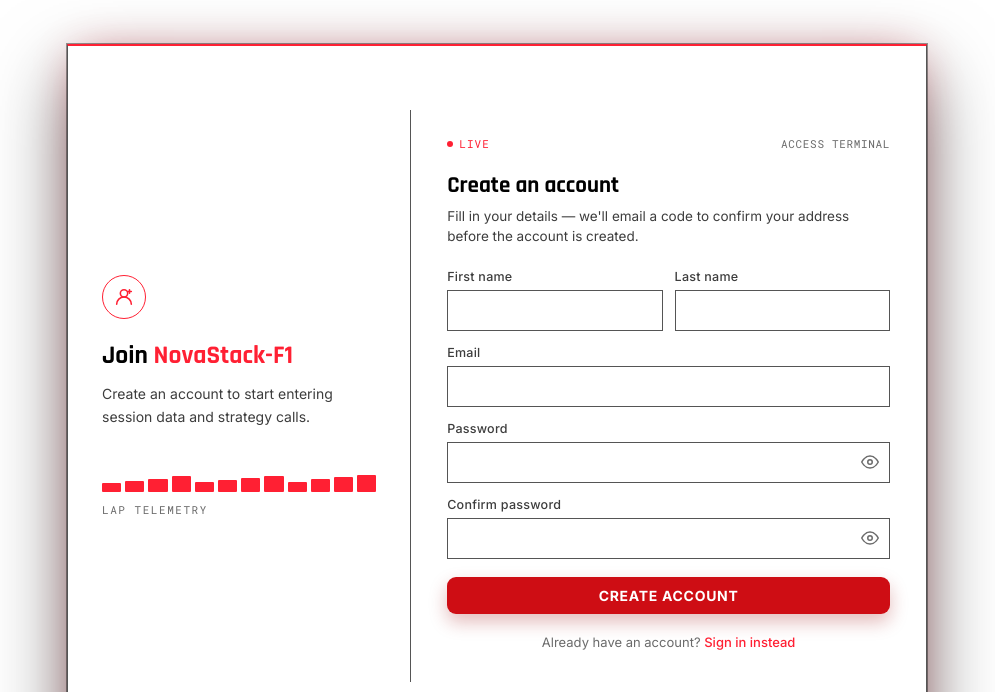
Scenario: SignUpPage › rejects mismatched passwords without asking the backend for anything
Type "Ada" into the field labelled "First name" at (555, 310), box top-left (447, 290), bottom-right (663, 330)
Type "Lovelace" into the field labelled "Last name" at (782, 310), box top-left (675, 290), bottom-right (890, 330)
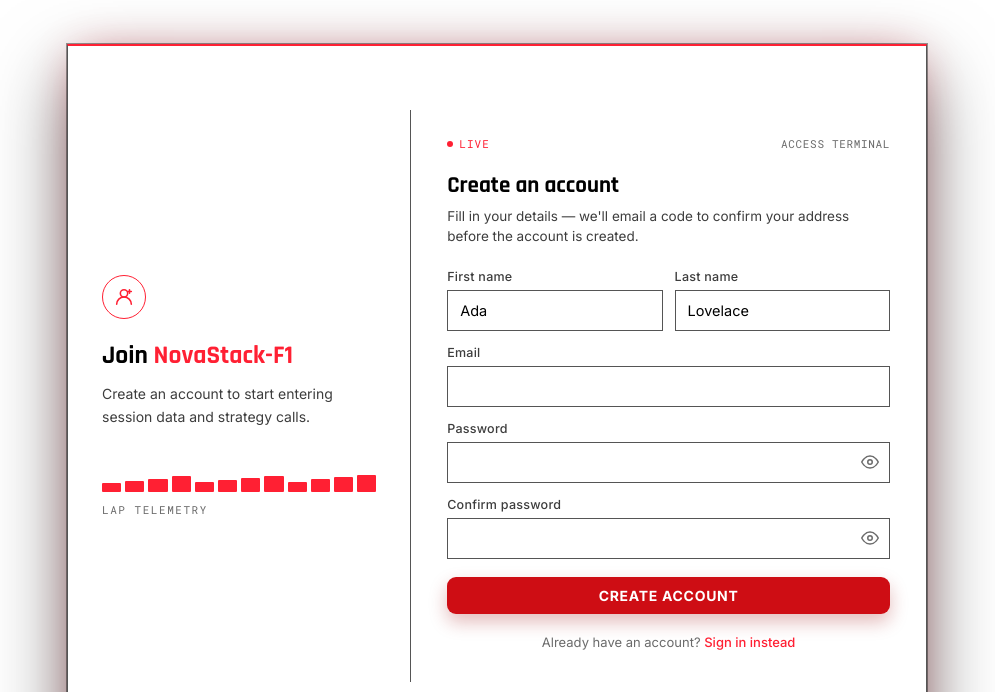
Type "ada@example.com" into the field labelled "Email" at (669, 386), box top-left (447, 366), bottom-right (890, 406)
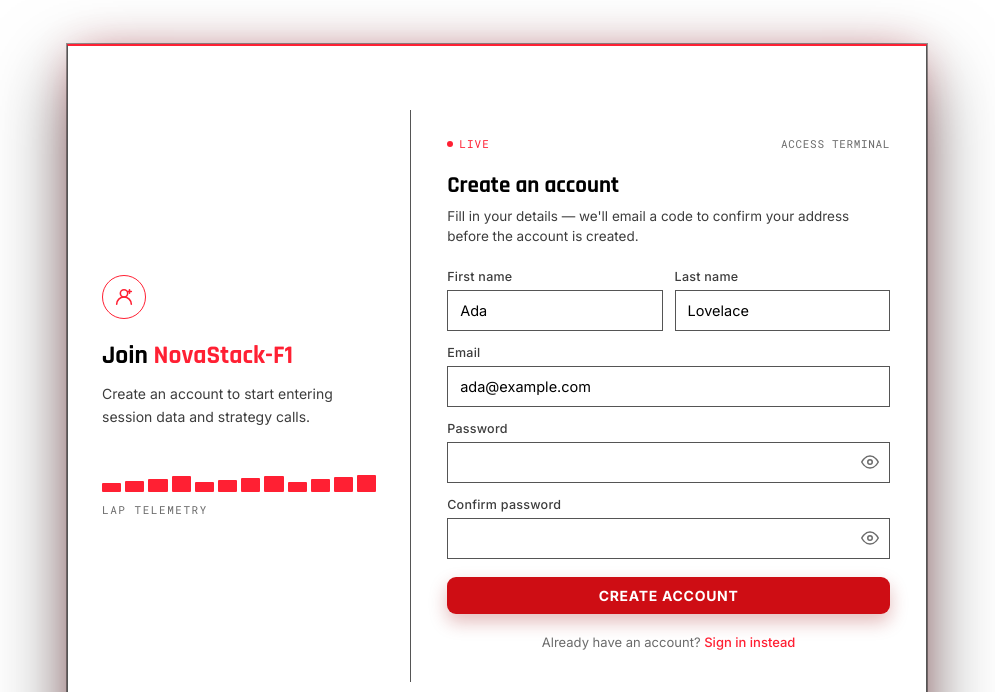
Type "longenough1" into the password field labelled "Password" at (669, 462), box top-left (447, 442), bottom-right (890, 482)
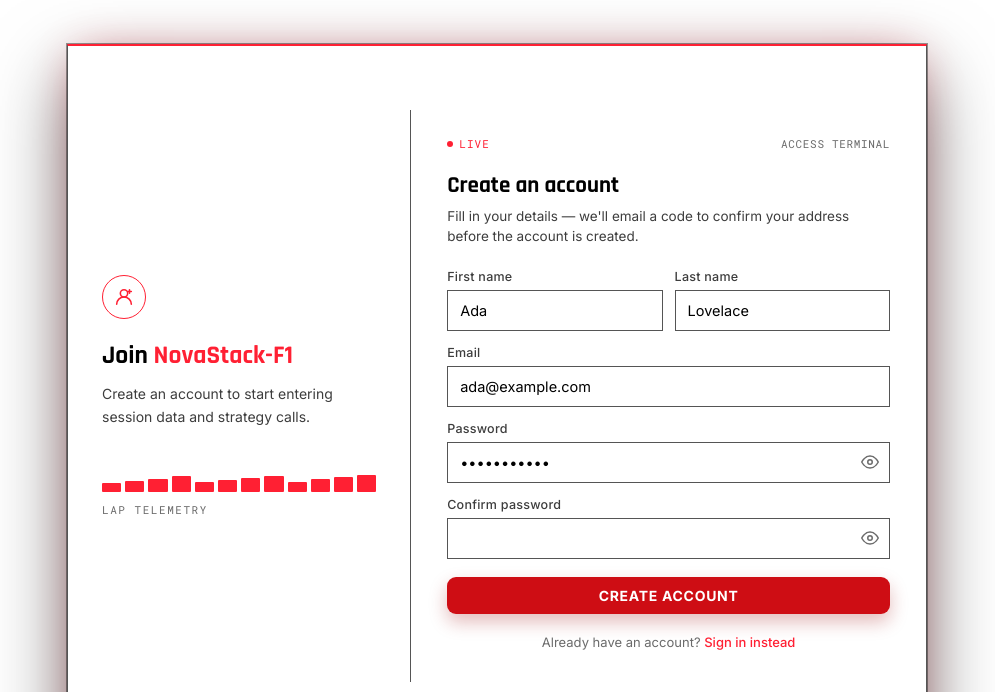
Type "longenough1" into the password field labelled "Confirm password" at (669, 538), box top-left (447, 518), bottom-right (890, 558)
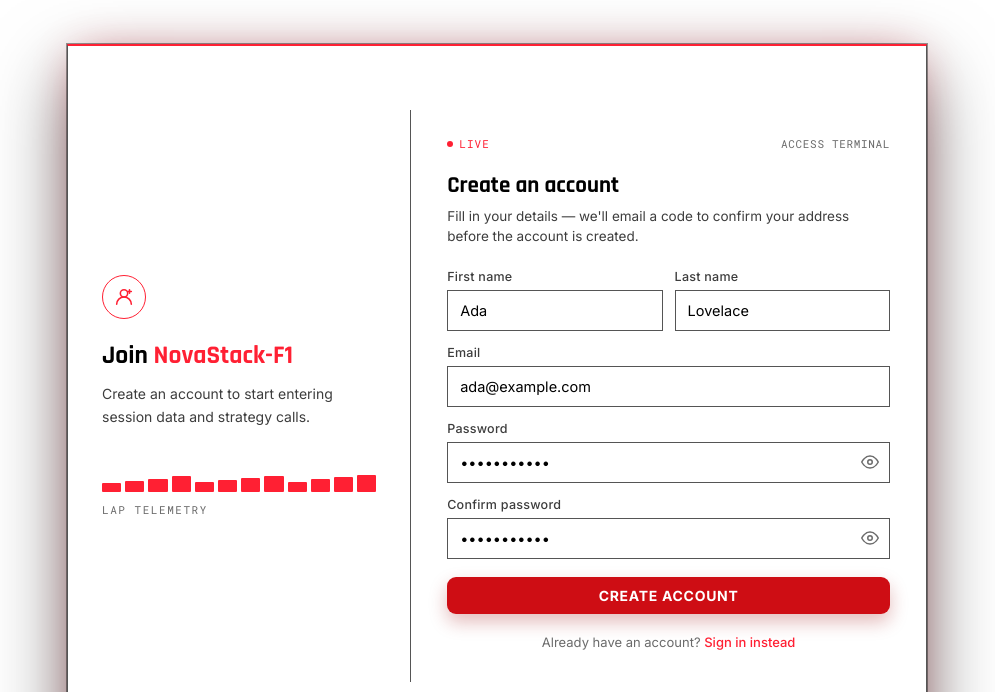
Type "something" into the password field labelled "Confirm password" at (669, 538), box top-left (447, 518), bottom-right (890, 558)
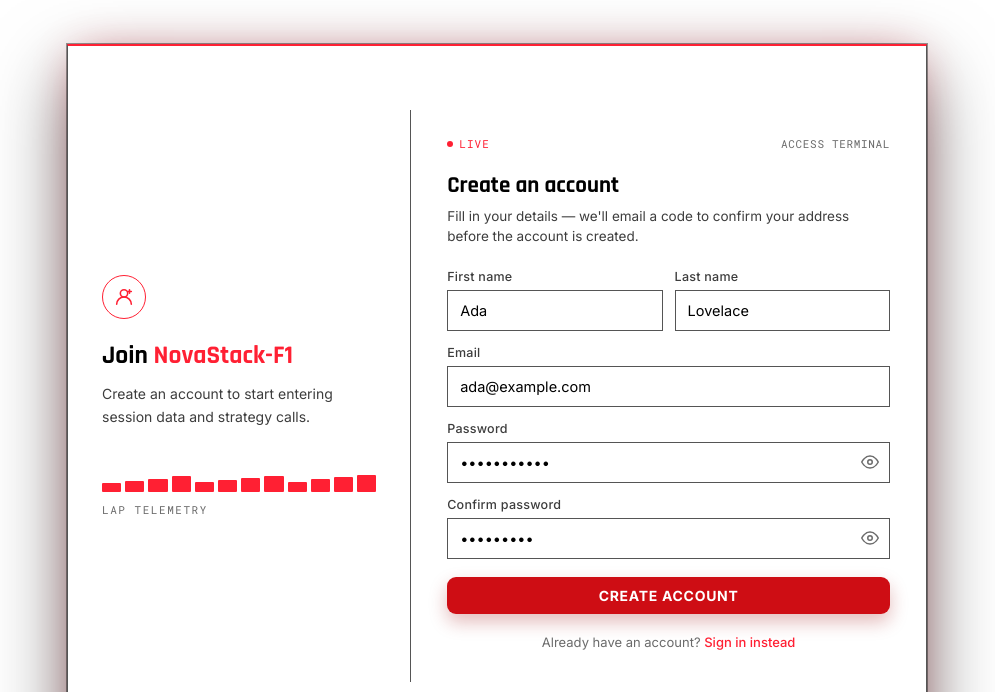
Click the button "Create account" at (669, 595), box top-left (447, 576), bottom-right (890, 614)
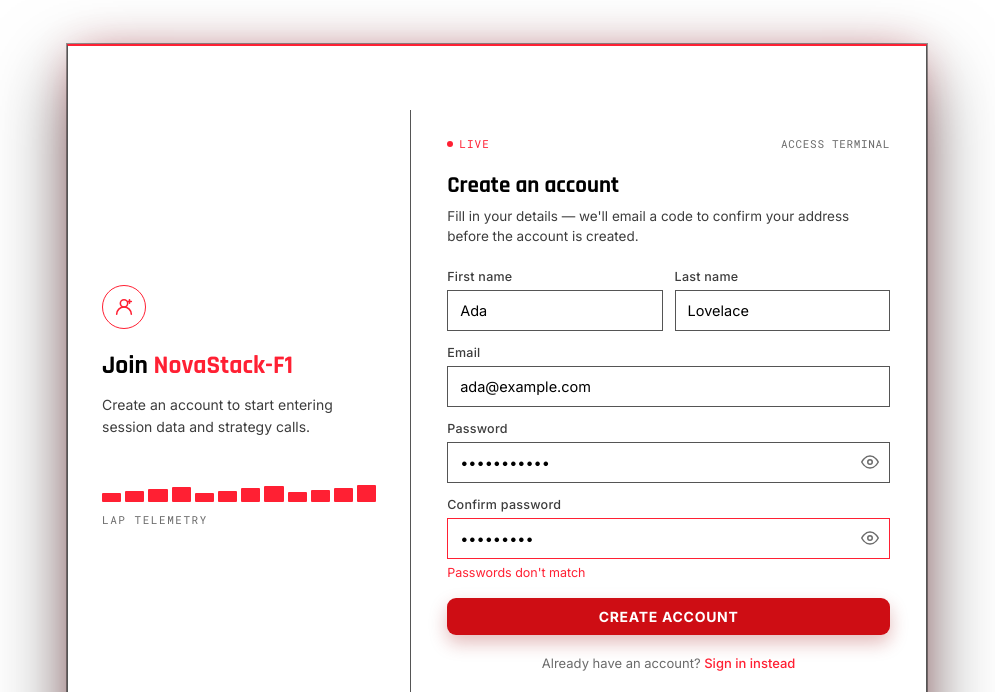
Now the text "Passwords don't match" is shown, box top-left (447, 564), bottom-right (586, 580)
